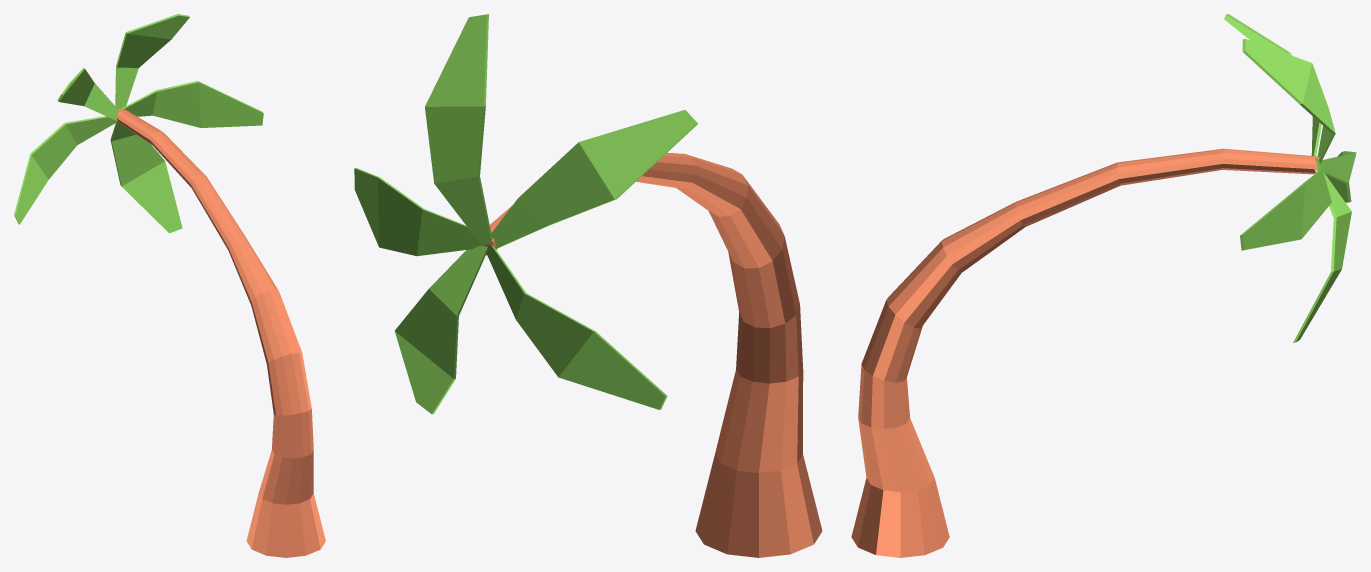
Rendered from Palm1_summer.FBX.
The picture shows the model from 3 angles, left to right: view 1: azimuth 30°, elevation 25°; view 2: azimuth 150°, elevation 25°; view 3: azimuth 270°, elevation 25°; orthographic projection. The views are drawn at different scales.
Visible parts, largest first — view 1: Palm; view 2: Palm; view 3: Palm.
Boxes of the visible parts, <box> form: Palm: <box>14,14,325,557</box>; Palm: <box>354,14,822,557</box>; Palm: <box>851,14,1356,557</box>.
Size of the model in its own units: 3.49 by 6.28 by 5.56.
